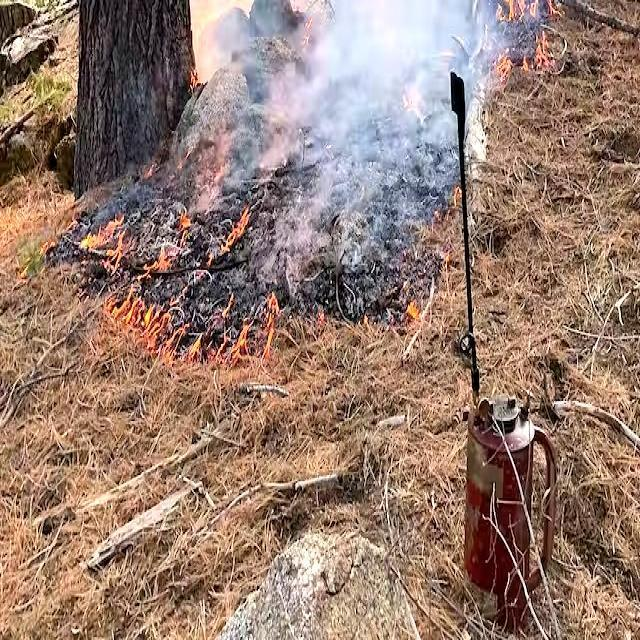Smoke: (140, 0, 505, 246)
